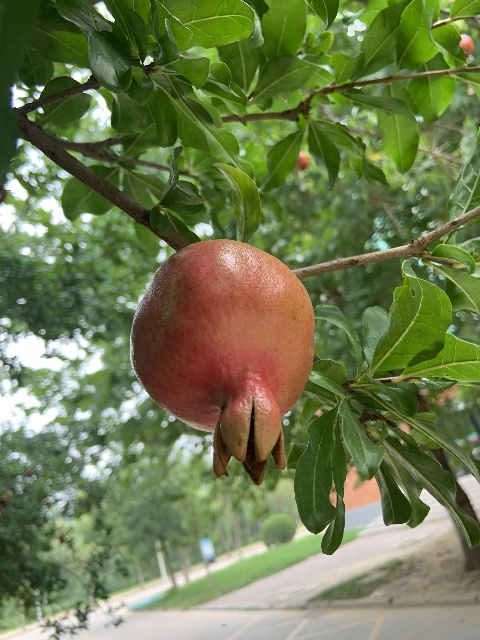ripe: (131, 239, 315, 484)
